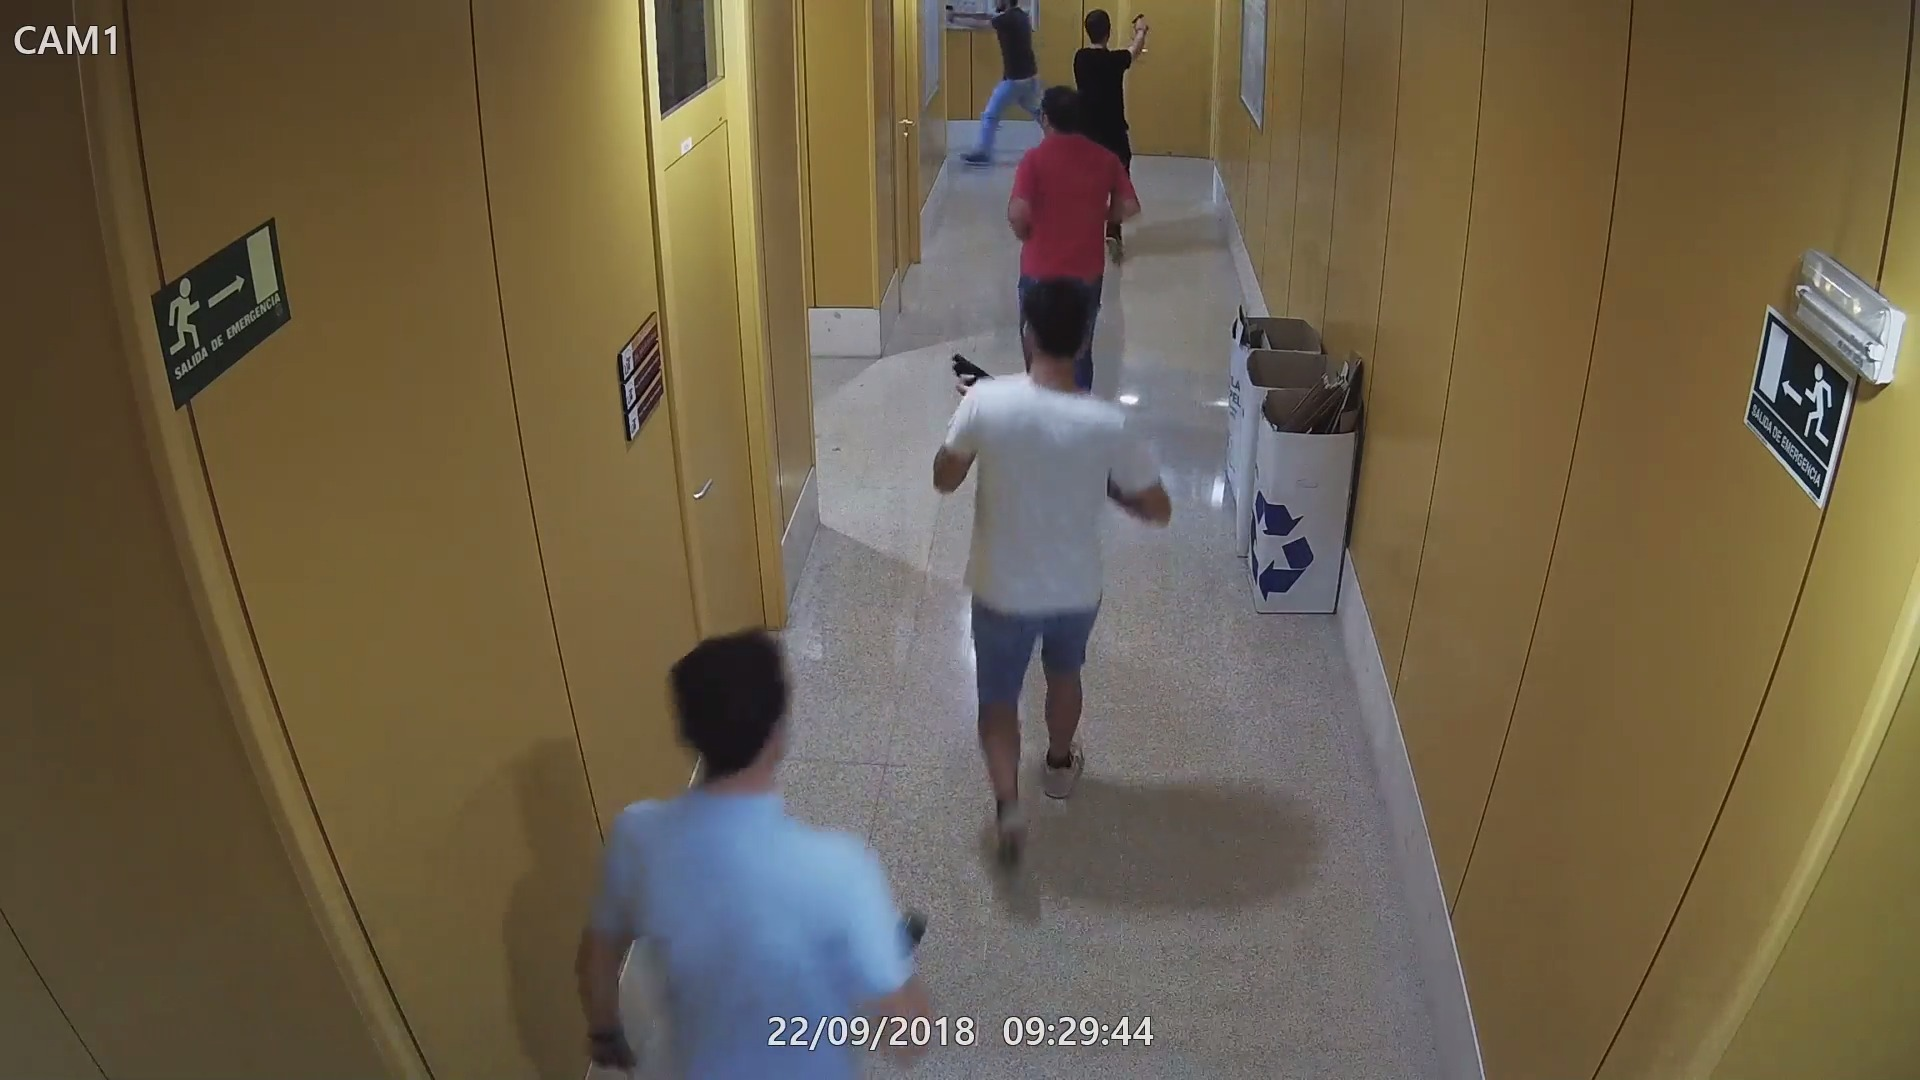pistol: (1130, 8, 1150, 25)
rifle: (945, 348, 1130, 502)
